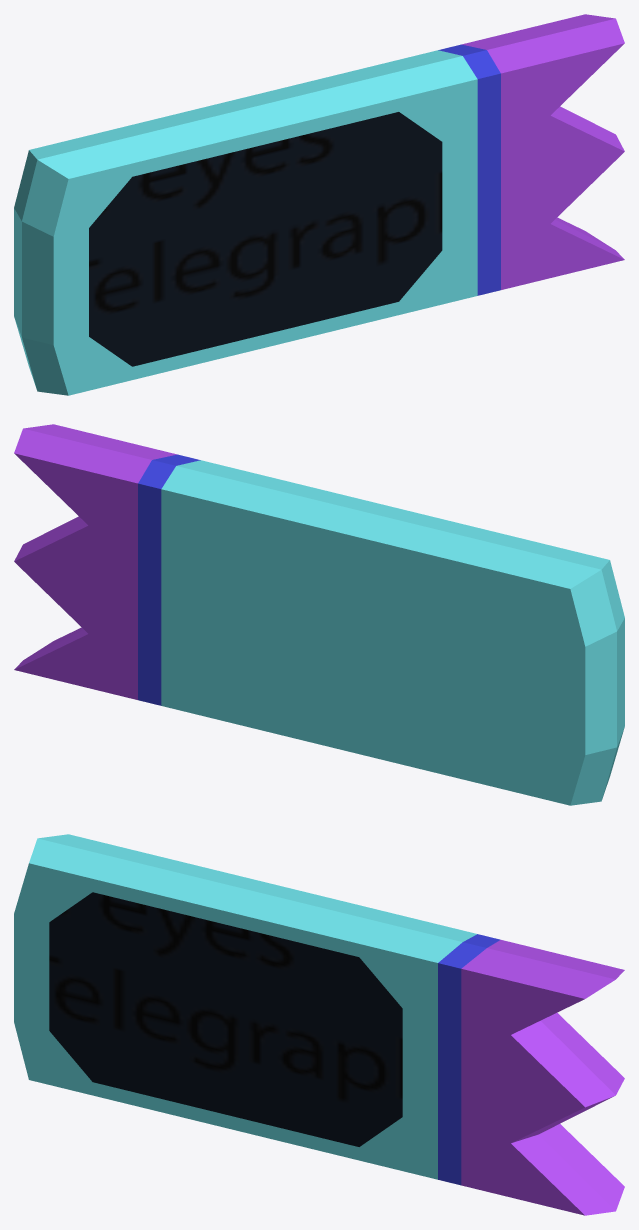
The model's file is LottoTicket.fbx.
The picture shows the model from 3 angles, top to bottom: view 1: azimuth 30°, elevation 25°; view 2: azimuth 150°, elevation 25°; view 3: azimuth 330°, elevation 25°; orthographic projection.
Parts seen in each view (by area): view 1: LottoTicket; view 2: LottoTicket; view 3: LottoTicket.
Part boxes in pixels (left/top/right/bottom): LottoTicket: left=14, top=14, right=624, bottom=395; LottoTicket: left=14, top=424, right=624, bottom=805; LottoTicket: left=14, top=834, right=624, bottom=1215.
Size of the model in its own units: 62.16 by 23.18 by 7.19.
